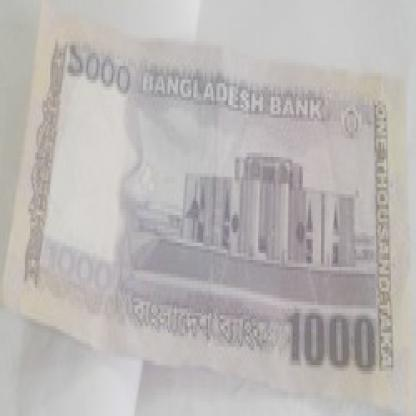One Thousand taka: (280, 298, 382, 381), (63, 42, 133, 108)
